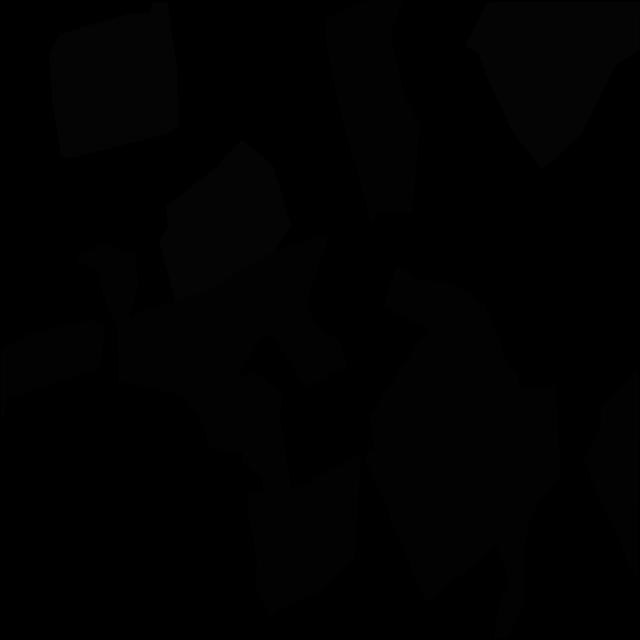cardboard: (364, 266, 560, 639), (74, 231, 348, 452), (242, 419, 361, 618), (325, 0, 420, 221), (582, 364, 639, 584), (1, 320, 106, 425)
soft_plastic: (465, 1, 640, 169), (159, 140, 291, 302), (49, 1, 179, 159)
